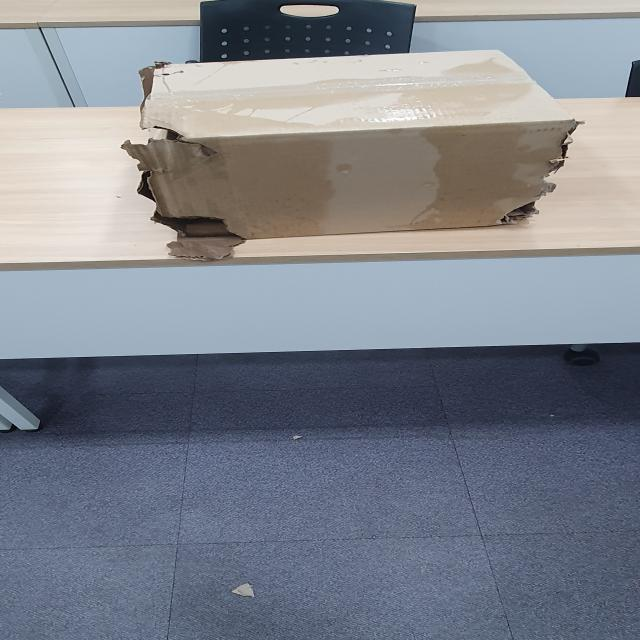hole: (144, 169, 231, 239), (495, 200, 563, 233)
wet: (128, 51, 564, 229)
